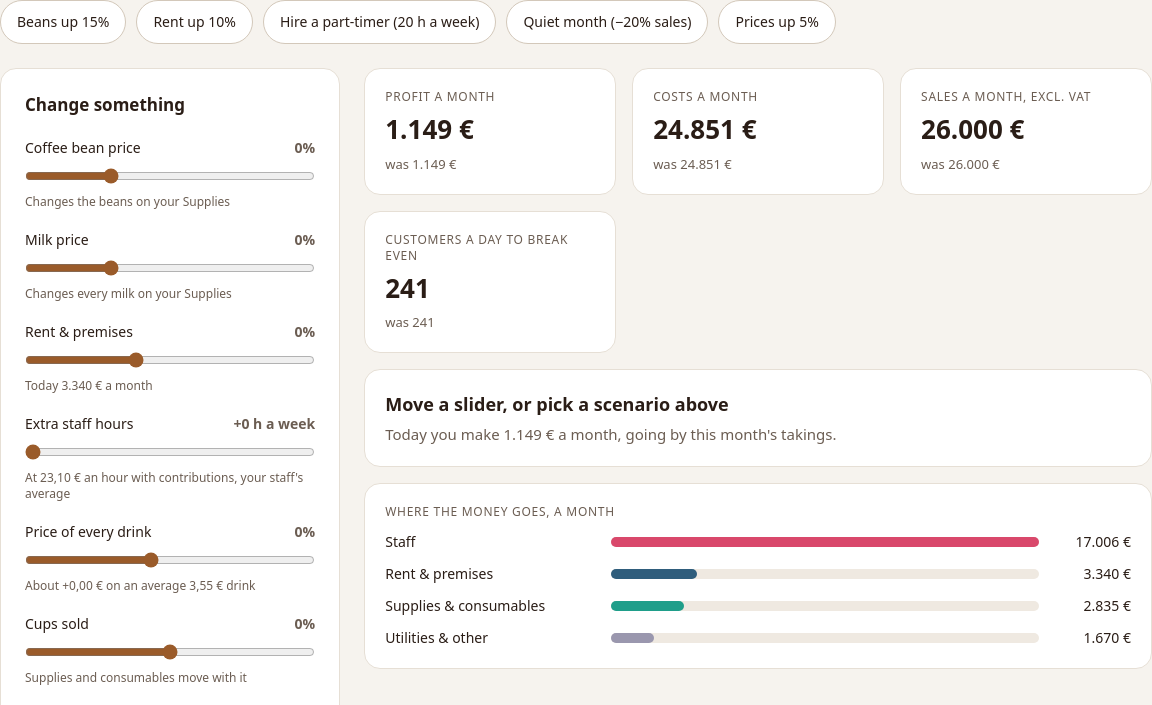
WhatIfView › says what a rent rise costs and what keeps today's profit
expect the text "Move a slider, or pick a scenario above" is shown: met, box [385,392,729,416]
Click the button "Rent up 10%" at coordinates (195, 22), box [136,0,253,44]
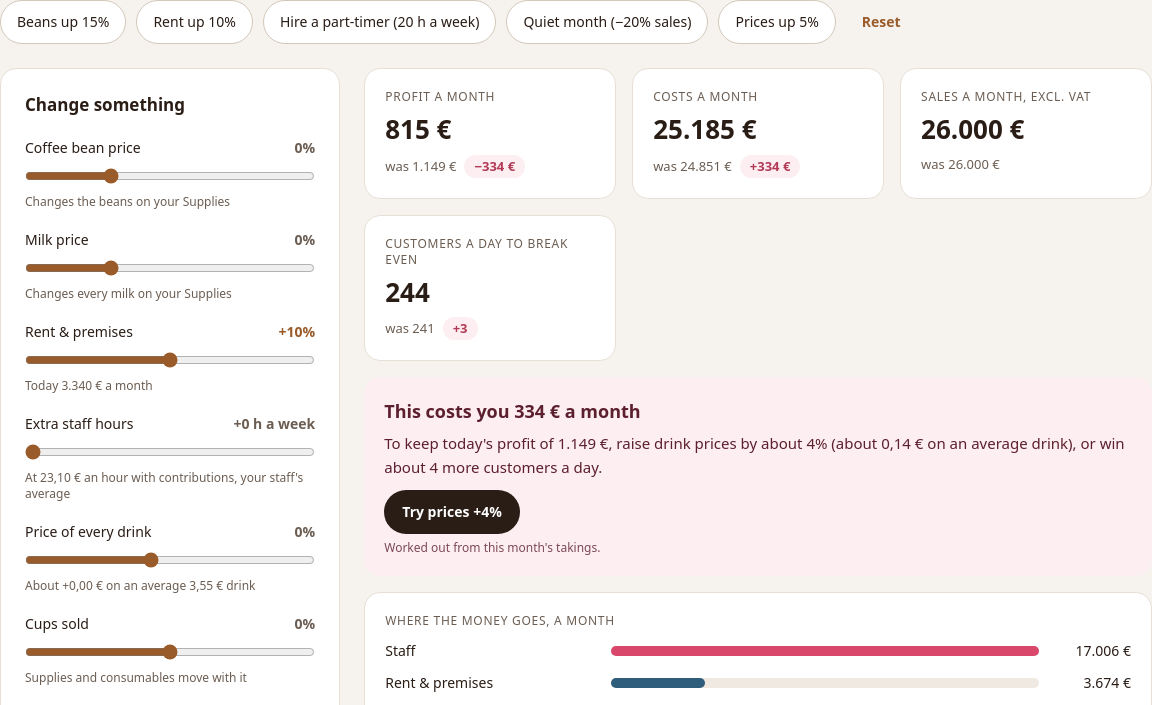
Click the button "Try prices +4%" at coordinates (452, 512), box [384,490,520,534]
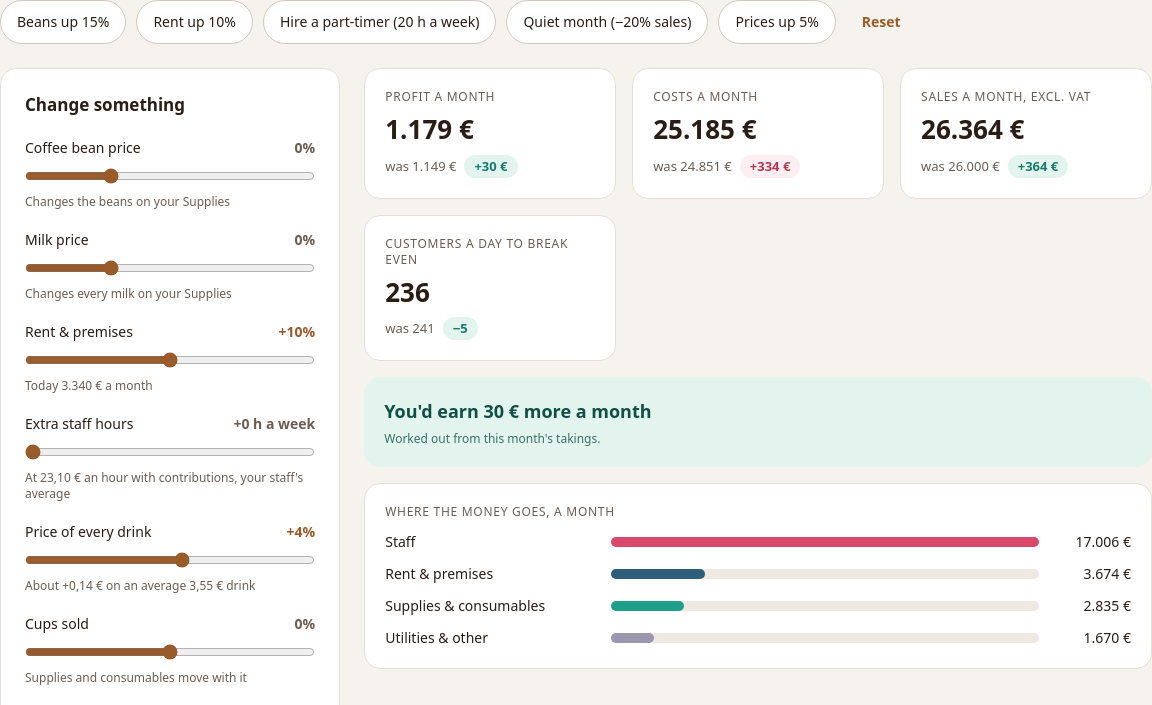
expect the text "You'd earn 30 € more a month" is shown: met, box [384,399,652,423]
